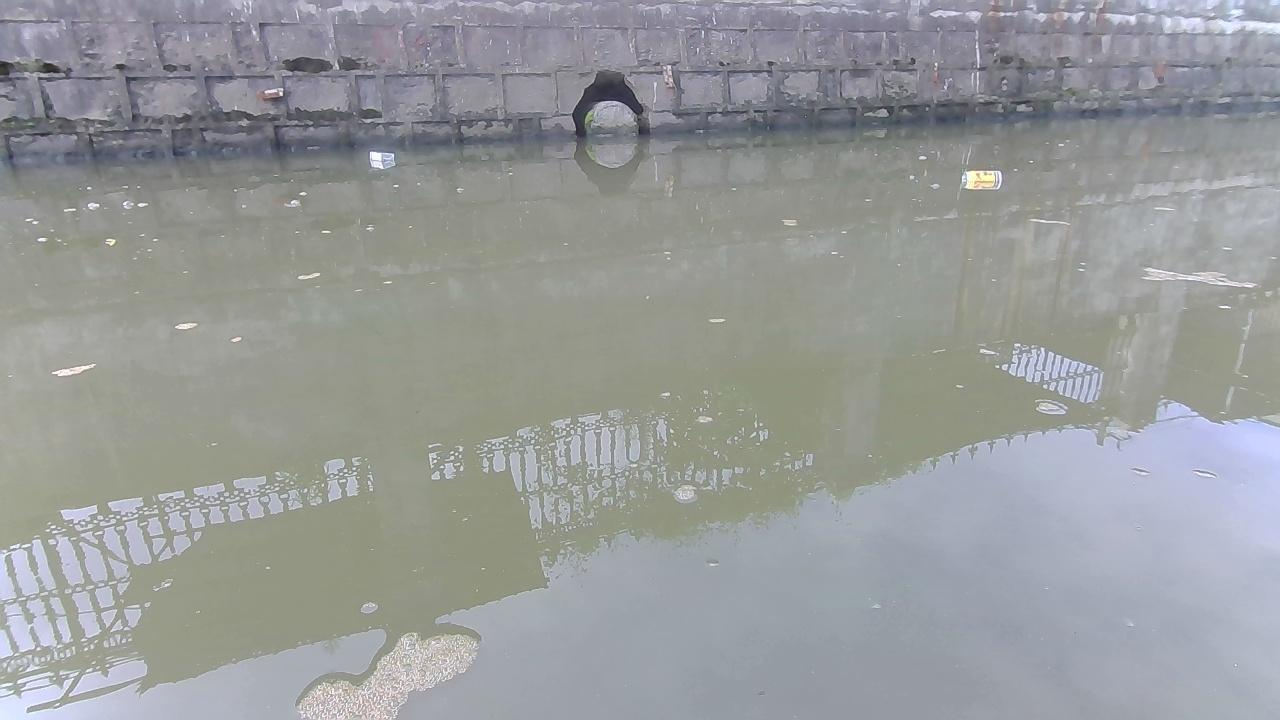bottle: (963, 171, 1001, 192), (368, 151, 392, 162)
